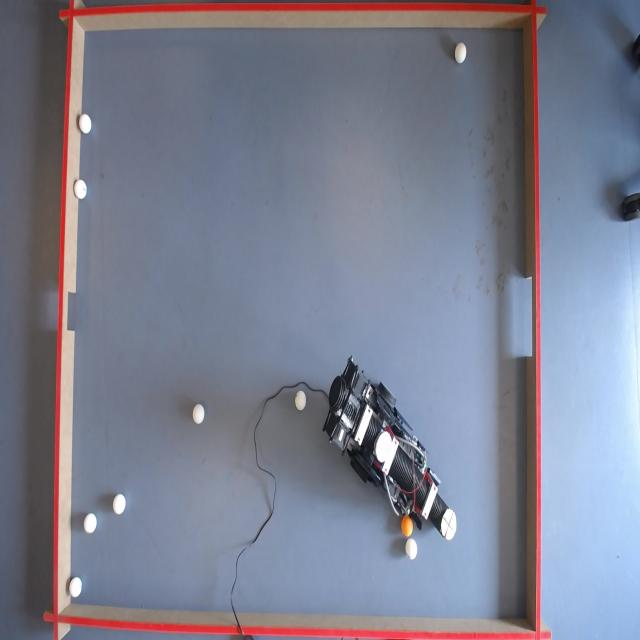orange: (400, 516, 414, 536)
robot: (313, 359, 455, 541)
robot-front: (441, 508, 459, 541)
robot-rear: (374, 431, 393, 462)
white: (69, 577, 83, 600), (84, 513, 98, 535), (112, 494, 126, 516), (405, 540, 419, 560), (192, 404, 204, 426), (80, 112, 92, 134), (455, 43, 468, 63), (74, 180, 87, 200), (294, 390, 306, 410)
